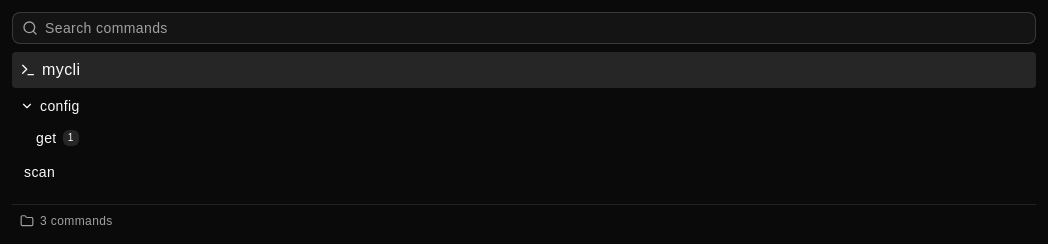
Test: CommandTree › filters commands by name when a search query is entered
In the field with placeholder "Search commands": x=524, y=28 [12,12,1036,44], type "scan"
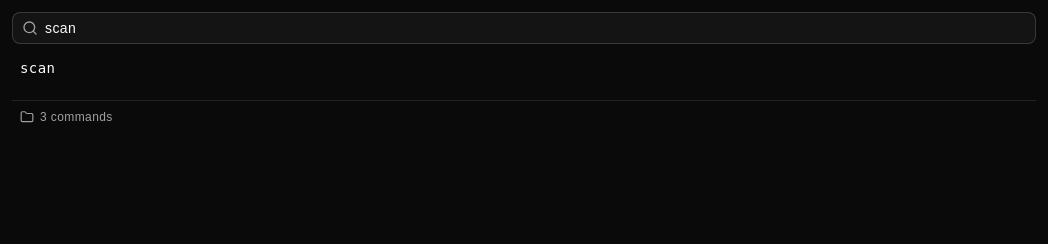
Expected: the button "scan" is shown, [12,52,1036,84]
Expected: the button "config" is gone
Expected: the button "get" is gone
